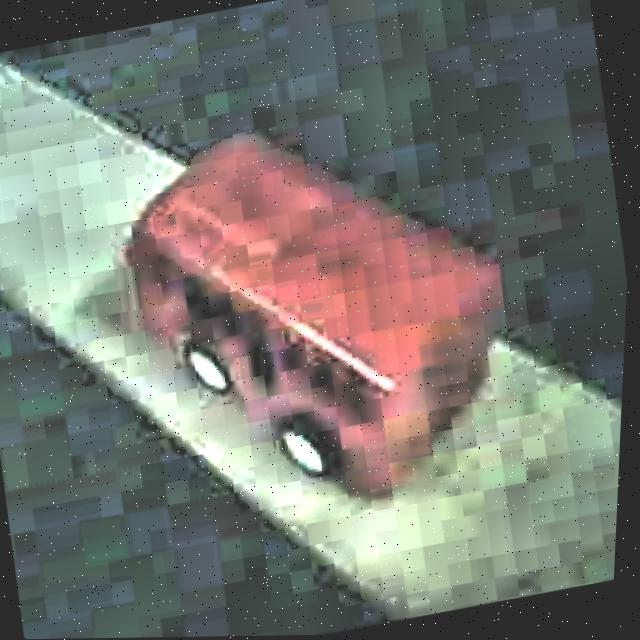bus: (87, 83, 545, 546)
